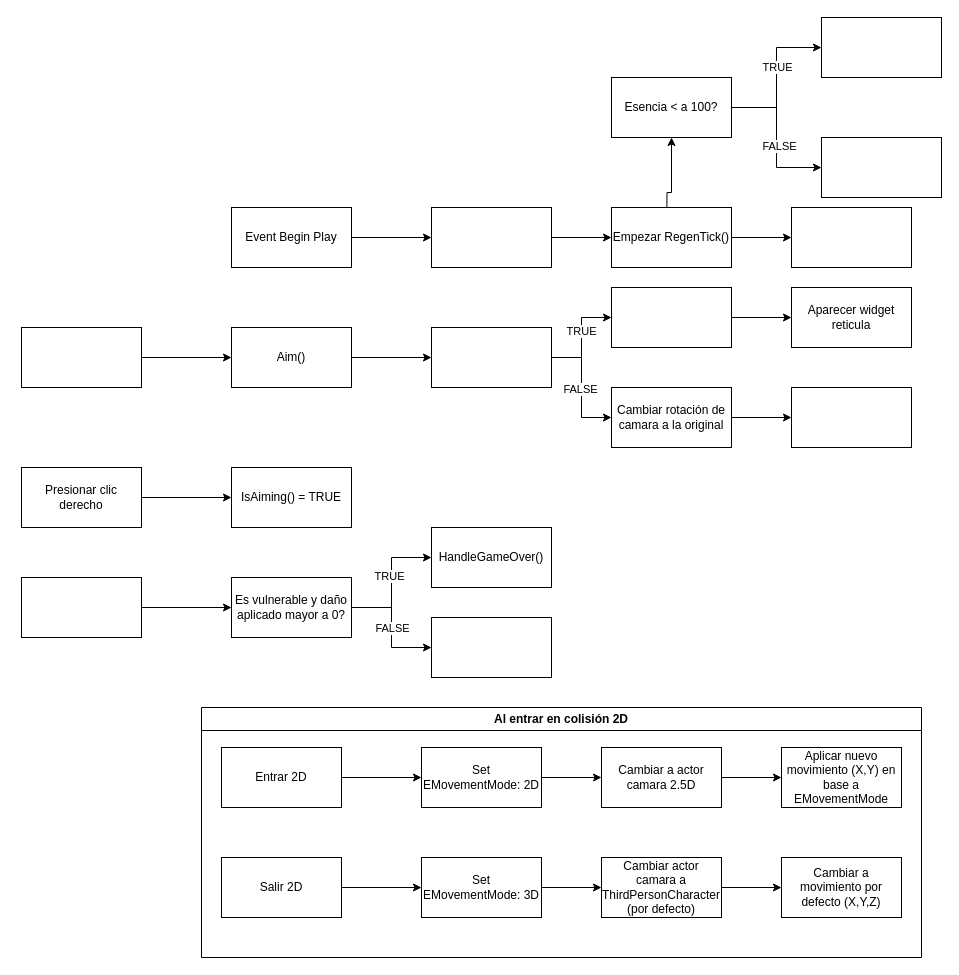
This 959x975 diagram has some shape labels left out. Here are the shapes that lost their labels. From the top down, the centre of each, then its label:
At [881,47]: "AddEssence()".
At [881,167]: "No sumar".
At [491,237]: "Crear retícula para Aim() y esconder".
At [851,237]: "Crear actor Camara 2.5D".
At [671,317]: "Cambiar rotación de camara".
At [81,357]: "Tick".
At [491,357]: "IsAiming()".
At [851,417]: "Desaparecer widget reticula".
At [81,607]: "ApplyEssenceDamage()".
At [491,647]: "Aplicar daño".
